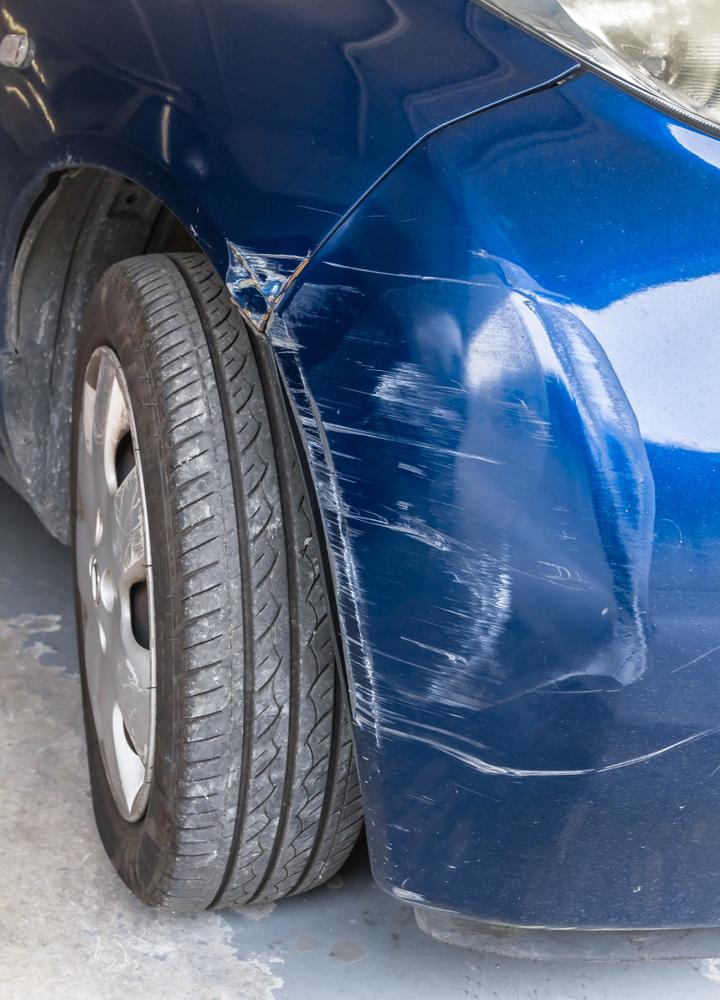dent: (227, 238, 307, 330)
scratch: (268, 247, 720, 785)
